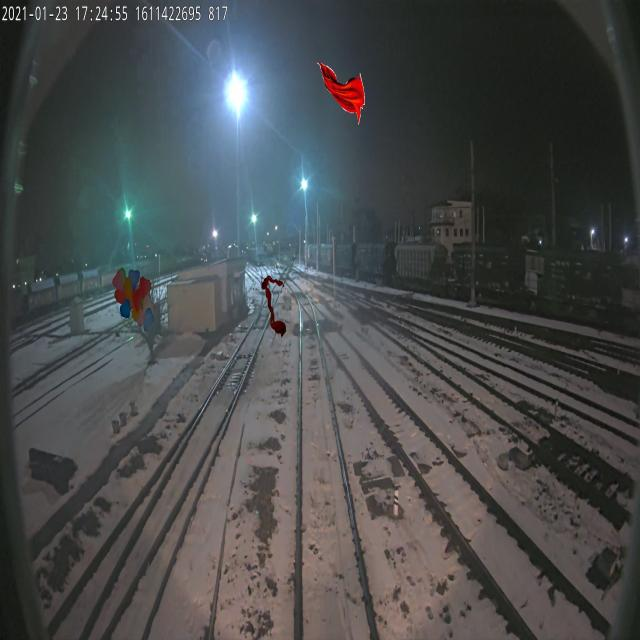balloon: (112, 268, 155, 332)
floating object: (316, 61, 365, 125), (261, 274, 286, 338)
